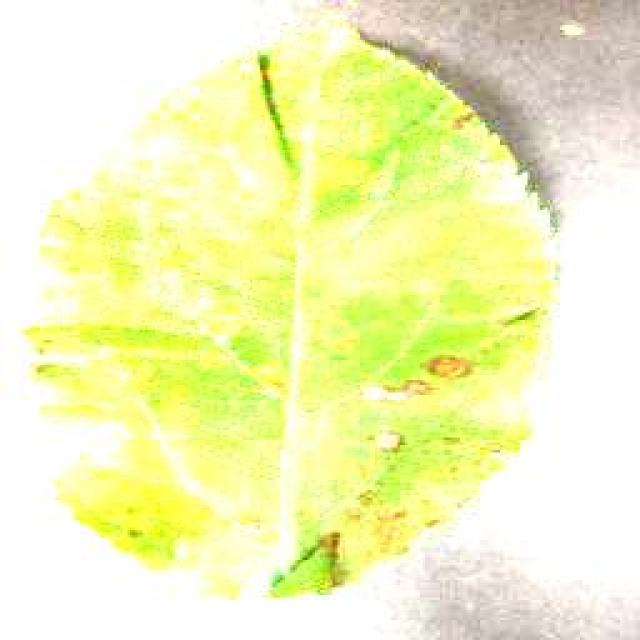Apple___Cedar_apple_rust: (16, 11, 557, 605)
